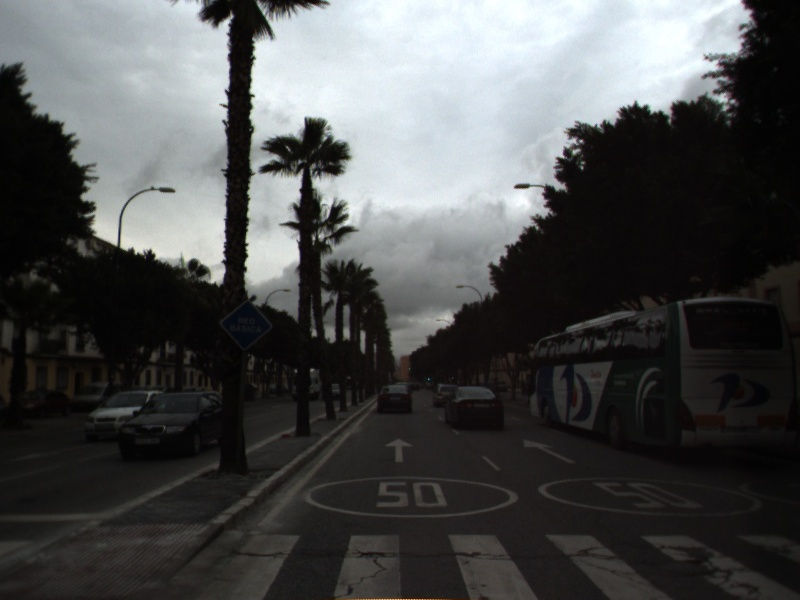STRAIGHT: (522, 438, 579, 466), (383, 436, 417, 464)
